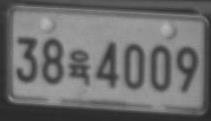0: (149, 44, 172, 92), (123, 43, 146, 89)
3: (15, 35, 38, 83)
4: (95, 41, 120, 89)
8: (42, 37, 64, 85)
9: (176, 45, 200, 91)
육: (67, 48, 91, 87)
